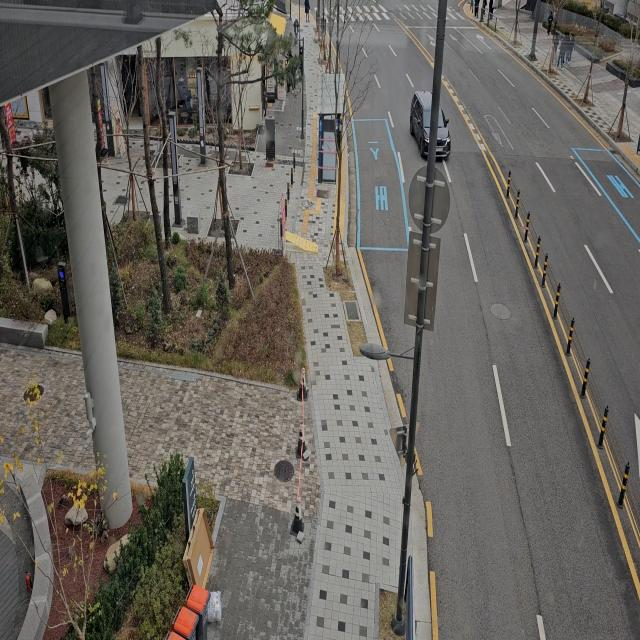Car: (410, 75, 458, 162)
